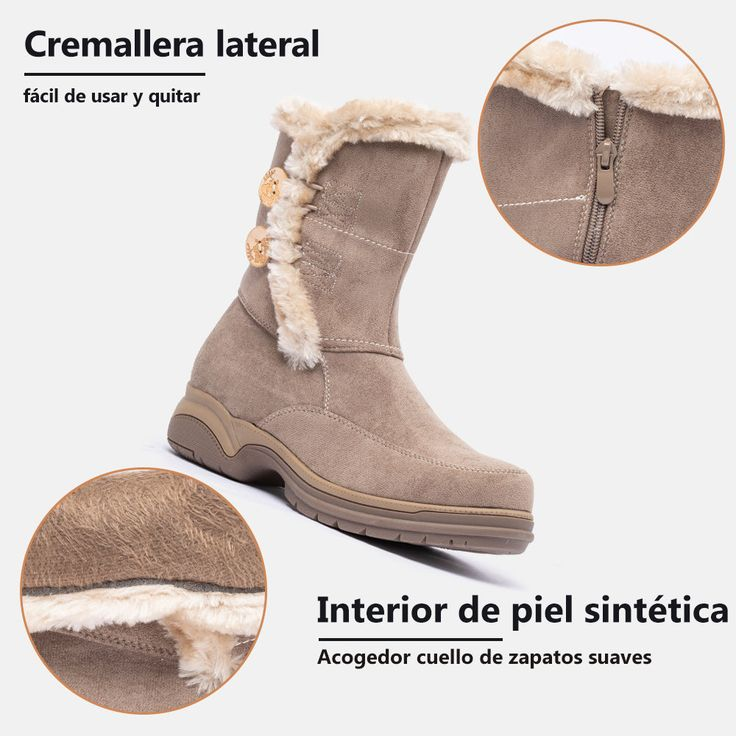gamuza: (190, 131, 534, 515)
